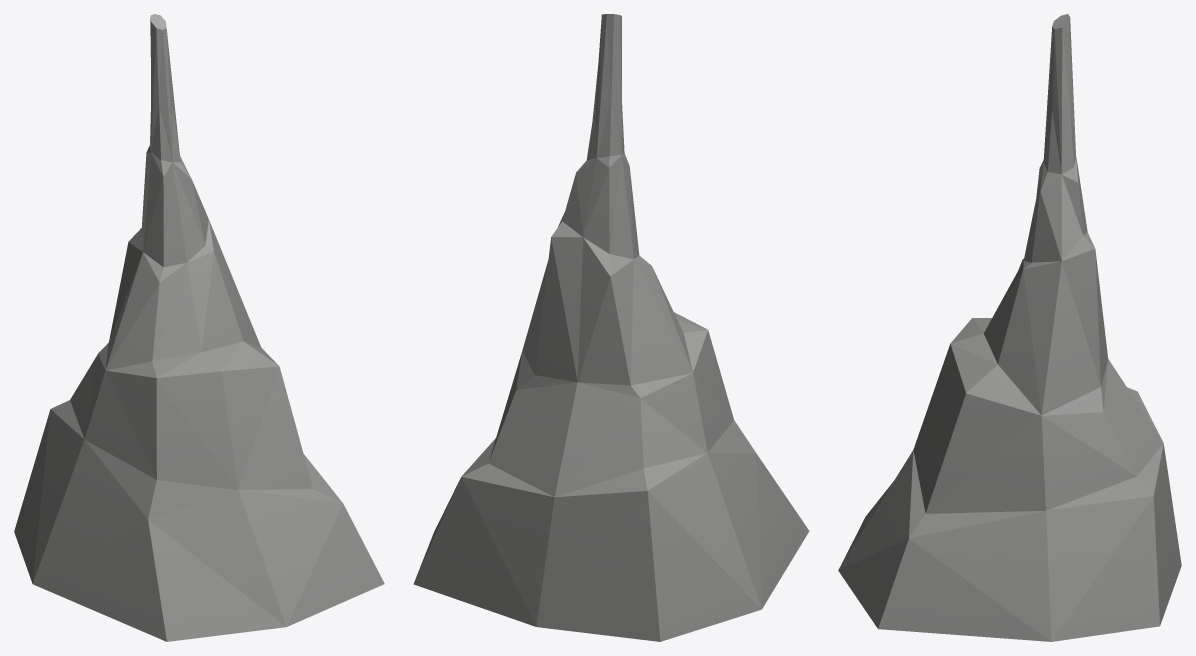
File: Cavern_Stalagmite-02.fbx
3 views of the same model, side by side, from view 1: azimuth 30°, elevation 25°; view 2: azimuth 150°, elevation 25°; view 3: azimuth 270°, elevation 25° (orthographic). The views are drawn at different scales.
Visible parts, largest first — view 1: Cavern_Stalagmite-02; view 2: Cavern_Stalagmite-02; view 3: Cavern_Stalagmite-02.
Boxes of the visible parts, box(x1,y1,x2,y2) form: Cavern_Stalagmite-02: box(14, 14, 384, 641); Cavern_Stalagmite-02: box(413, 14, 809, 641); Cavern_Stalagmite-02: box(838, 14, 1181, 641).
Size of the model in its own units: 96.15 by 162 by 92.62.
Materials: 1 (1 with a texture image).
